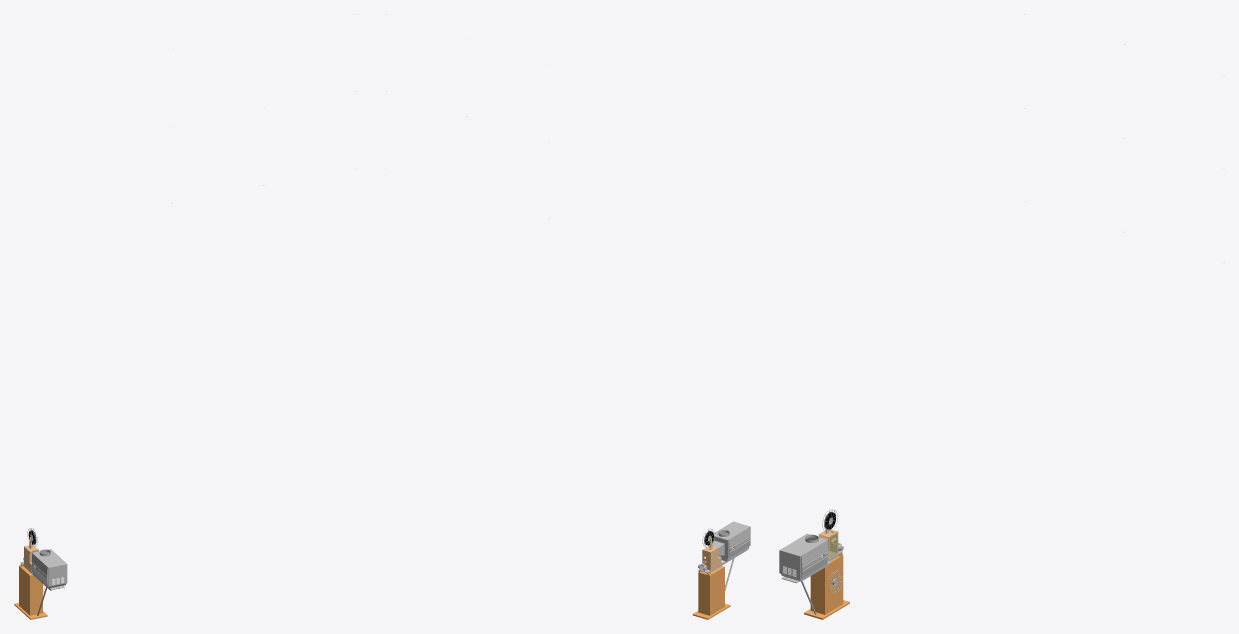
The model's file is projecter.glb.
3 views of the same model, side by side, from view 1: azimuth 30°, elevation 25°; view 2: azimuth 150°, elevation 25°; view 3: azimuth 330°, elevation 25° (orthographic). The views are drawn at different scales.
Parts seen in each view (by area): view 1: root; view 2: root; view 3: root.
Boxes of the visible parts, left/top/right/bottom form: root: left=14, top=14, right=356, bottom=619; root: left=385, top=14, right=750, bottom=619; root: left=779, top=14, right=1224, bottom=619.
Size of the model in its own units: 7.78 by 11.4 by 1.62.
